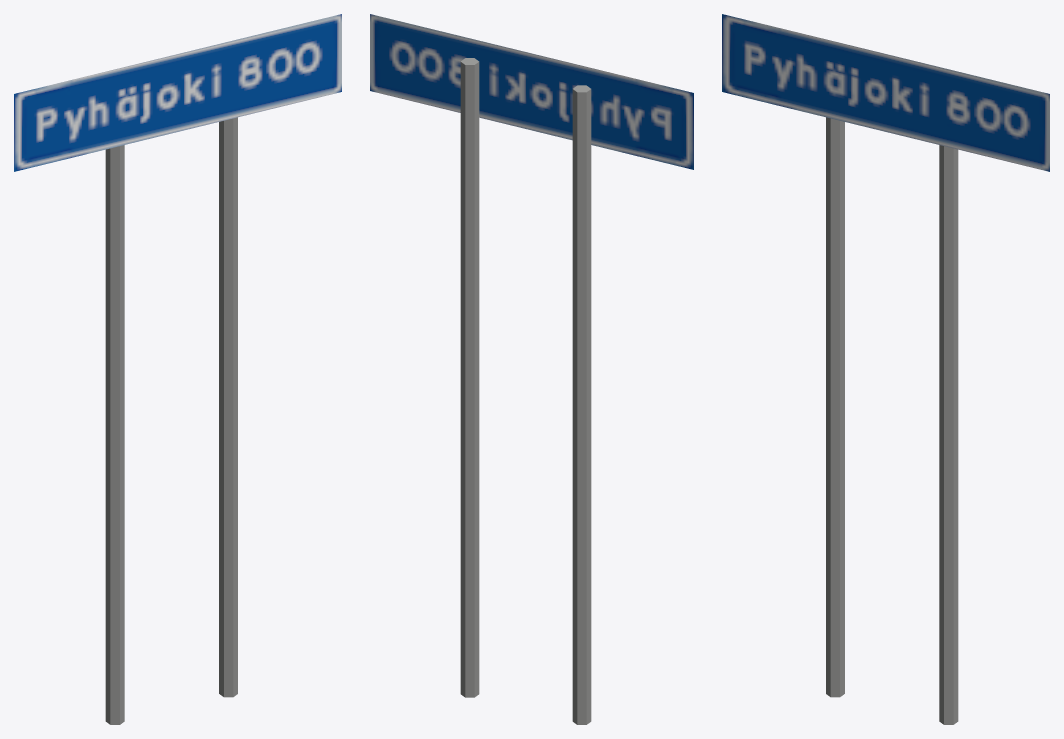
The model's file is Direcional_Sign.fbx.
3 views of the same model, side by side, from view 1: azimuth 30°, elevation 25°; view 2: azimuth 150°, elevation 25°; view 3: azimuth 330°, elevation 25° (orthographic).
Visible parts, largest first — view 1: Directional_Sign; view 2: Directional_Sign; view 3: Directional_Sign.
Part boxes in pixels (box(x1,y1,x2,y2)): Directional_Sign: box(14, 14, 341, 724); Directional_Sign: box(370, 14, 693, 724); Directional_Sign: box(722, 14, 1049, 724).
Bounding box in the file's own units: 0.8449 × 1.62 × 0.0484.
